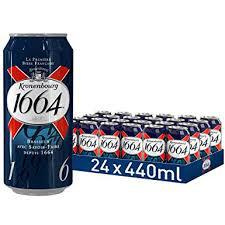beer: (3, 31, 77, 198)
